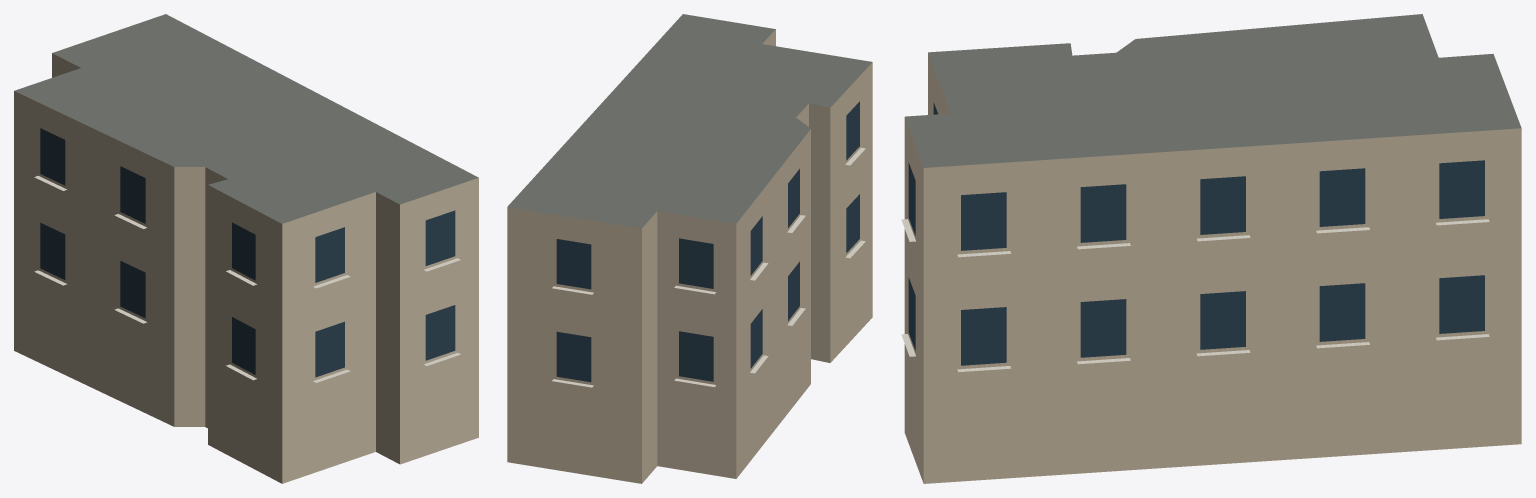
3 views of the same model, side by side, from view 1: azimuth 30°, elevation 25°; view 2: azimuth 150°, elevation 25°; view 3: azimuth 270°, elevation 25° (orthographic). The views are drawn at different scales.
Visible parts, largest first — view 1: Footprint 0, Inferred window bays, Window sills; view 2: Footprint 0, Inferred window bays, Window sills; view 3: Footprint 0, Inferred window bays, Window sills.
Part boxes in pixels (x1,y1,x2,y2): Footprint 0: (14, 14, 478, 483); Inferred window bays: (40, 128, 455, 377); Window sills: (34, 176, 460, 382); Footprint 0: (507, 14, 872, 483); Inferred window bays: (556, 101, 859, 382); Window sills: (552, 147, 865, 387); Footprint 0: (904, 14, 1521, 483); Inferred window bays: (908, 102, 1484, 365); Window sills: (901, 219, 1489, 372).
Bounding box in the file's own units: 9.87 × 9.35 × 16.64.
